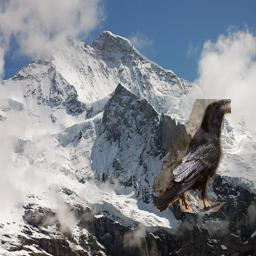Crow: (153, 99, 231, 212)
